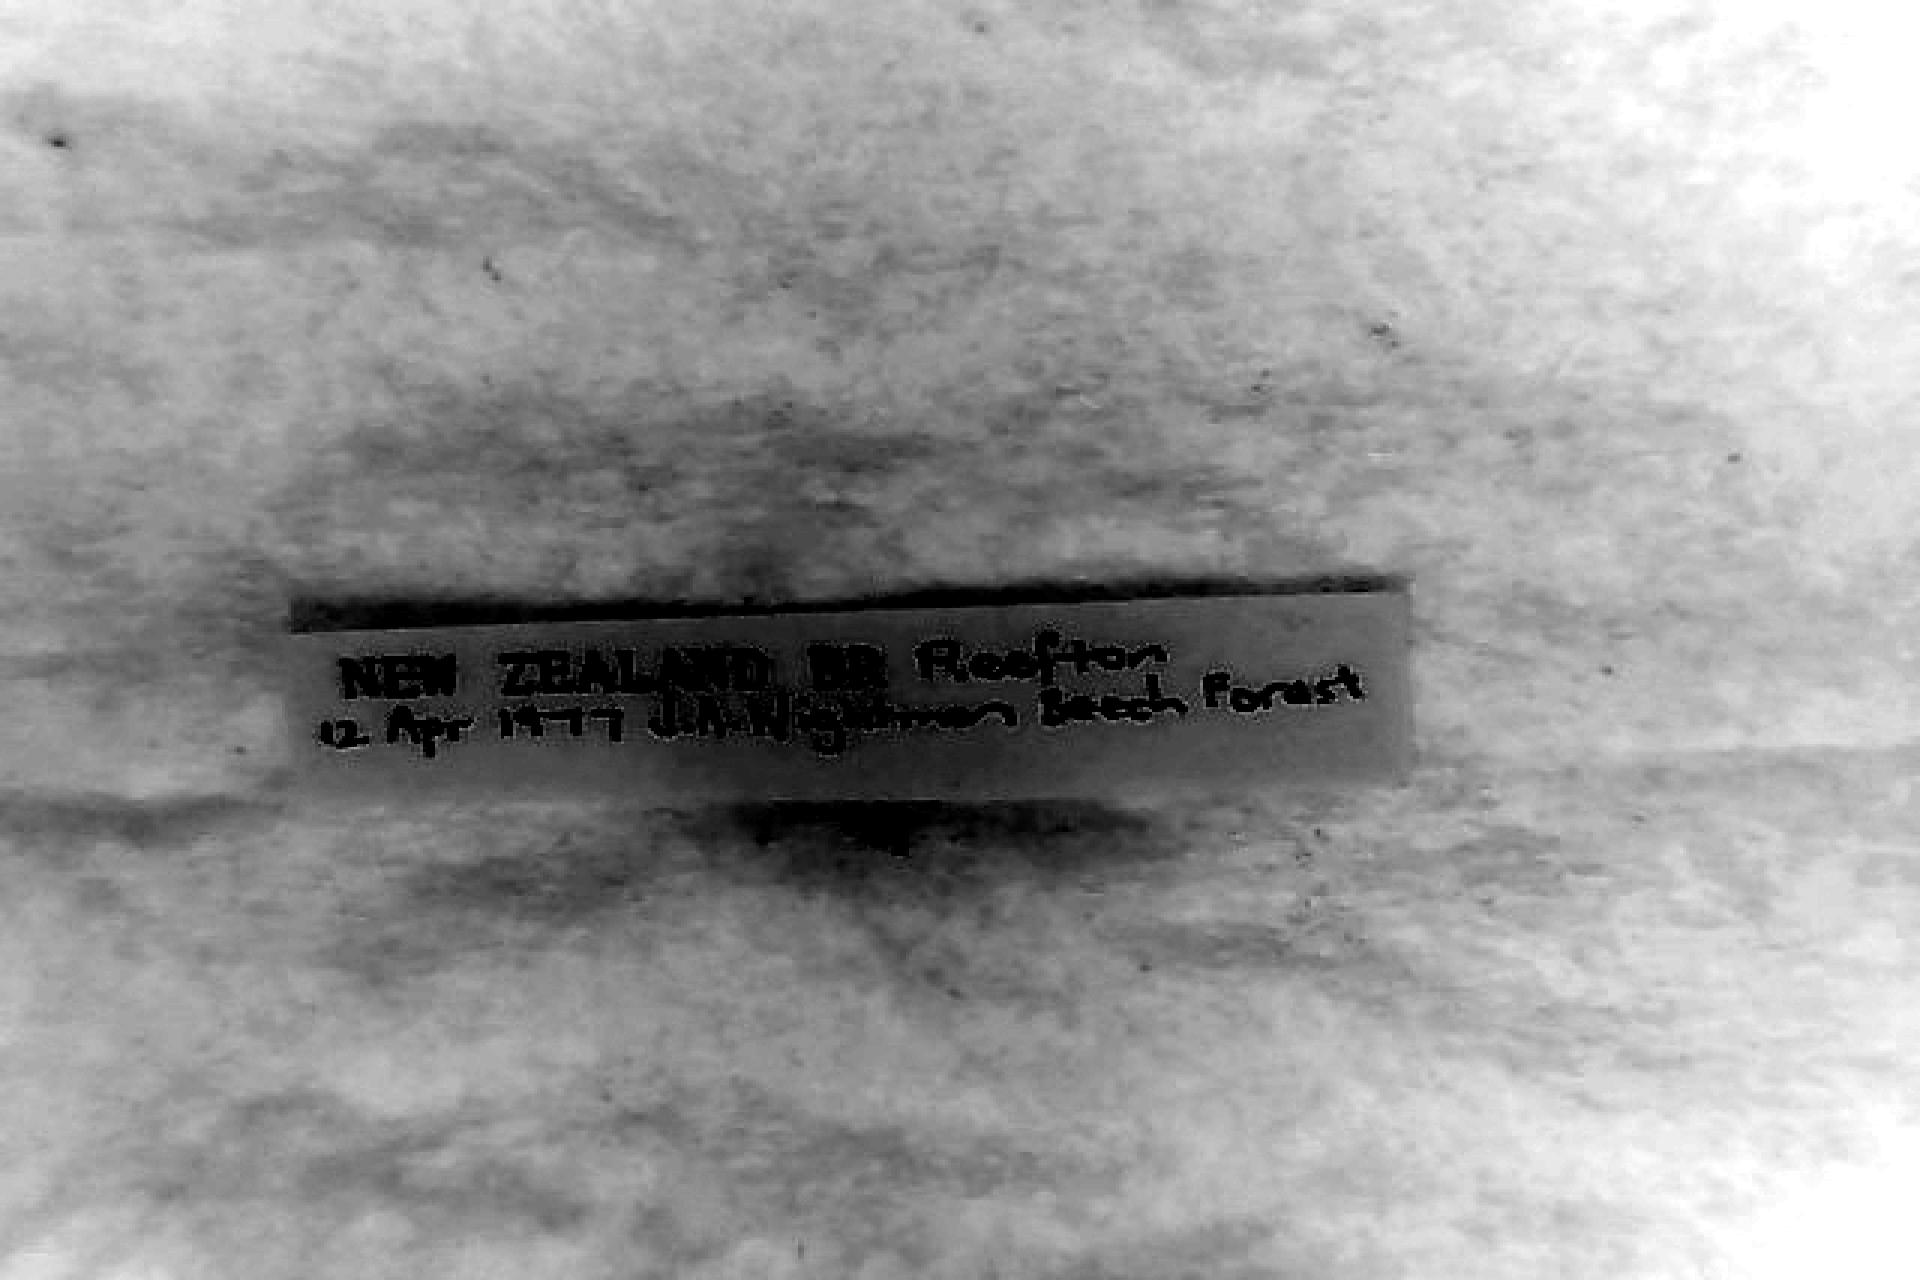mixed_label: (289, 590, 1410, 799)
